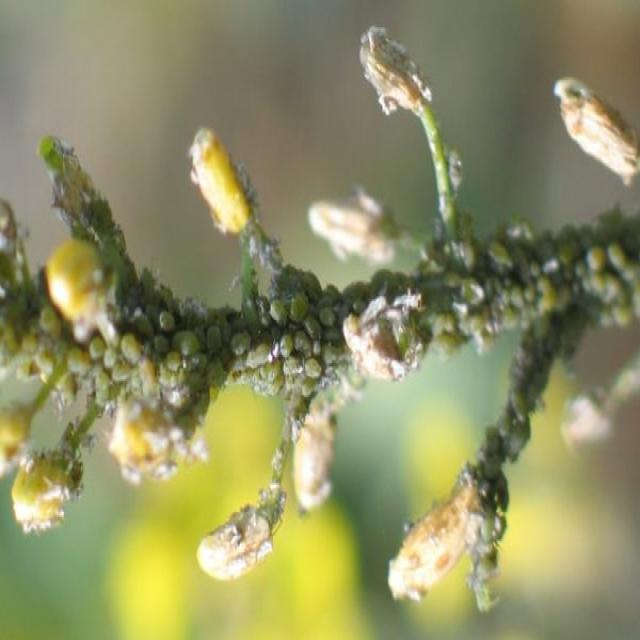Aphid-Grouped-: (35, 256, 348, 427), (381, 222, 600, 367)
